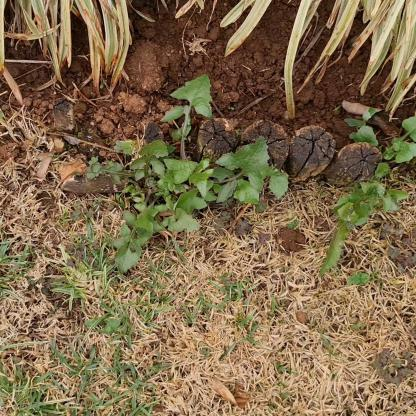Weeds: (85, 75, 289, 271), (319, 107, 415, 282)
